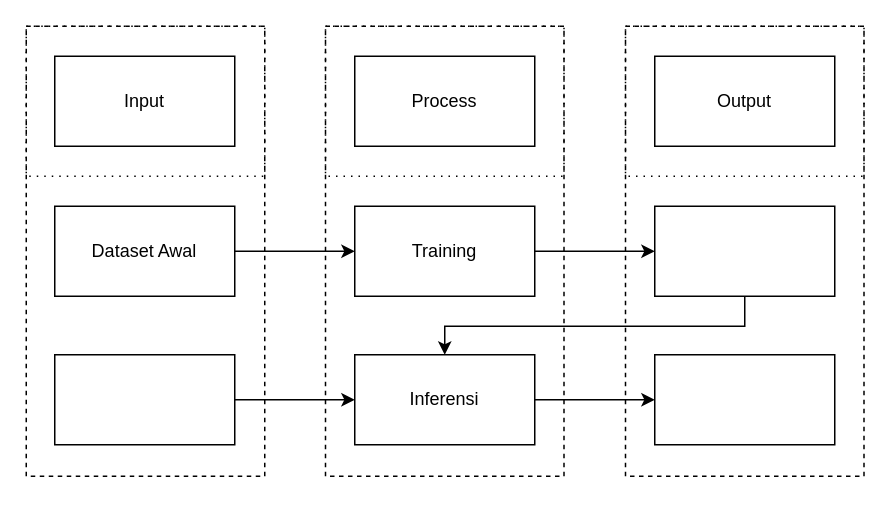
The diagram is 891 pixels wide and 515 high, and some of its shapes have lost their labels. The shapes that lost their labels are listed below. From the top down, each one's centre as x and y in pixels, then its label:
point 744,250: Model
point 144,399: Data Realtime
point 744,399: Display Hasil
